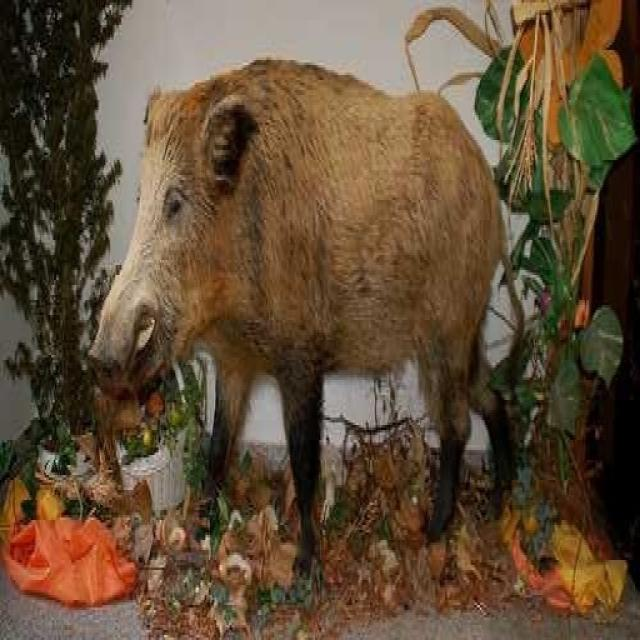pig: (63, 24, 521, 567)
